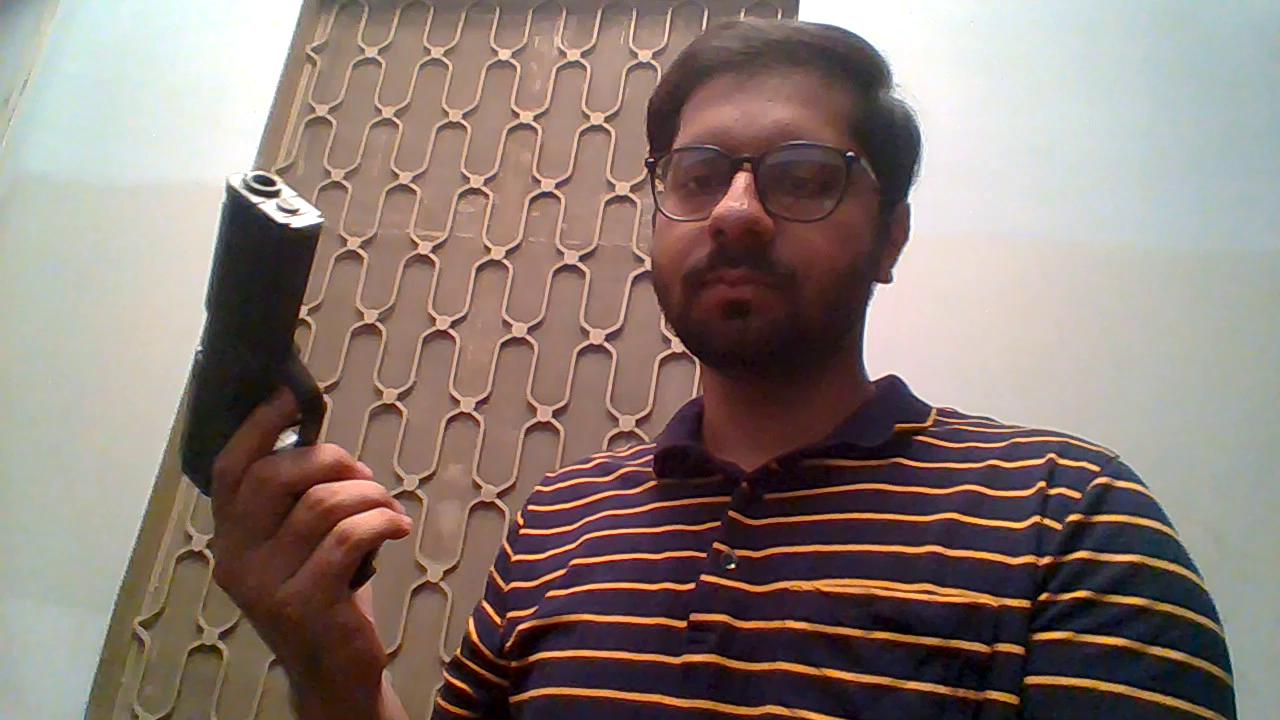criminal: (173, 16, 1239, 720)
weapon: (174, 165, 376, 506)
